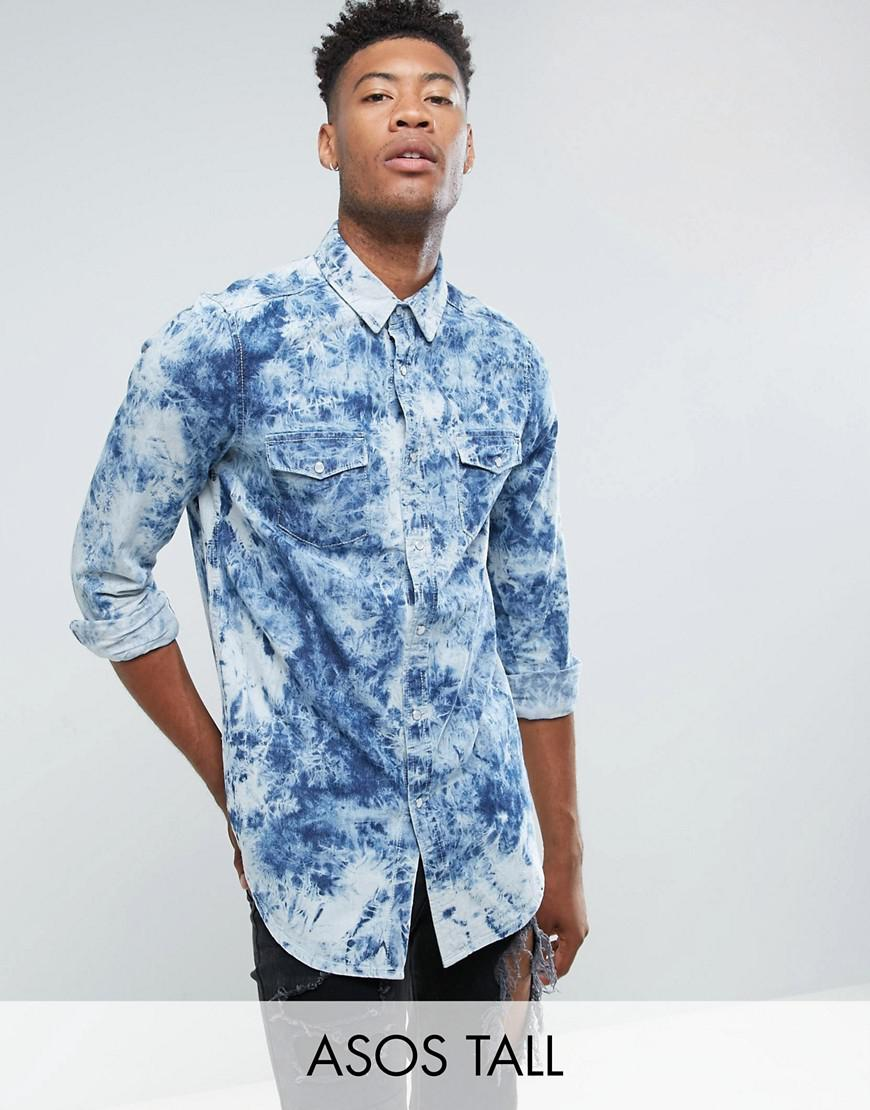teeshirt: (100, 251, 624, 954)
